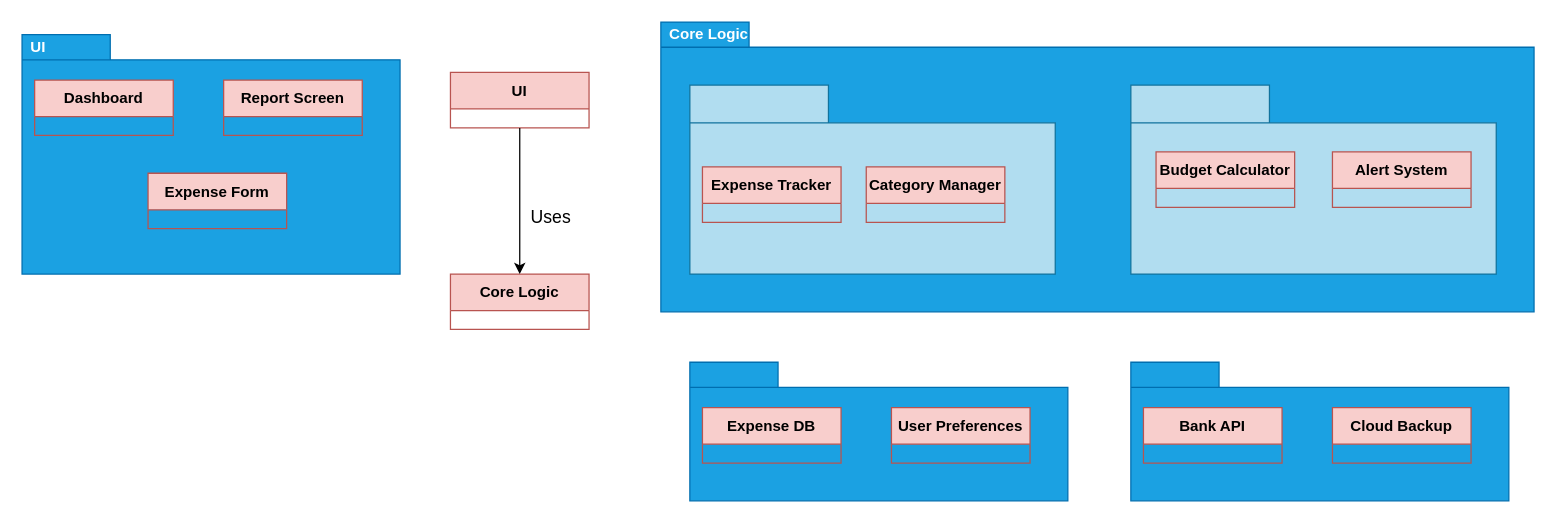
Some shapes in this 1556 by 523 pixel diagram are drawn without their labels. Here are the shapes that lost their labels. From the top down, the box of each, then its label:
(689, 84, 1055, 274): Expense Management
(1130, 84, 1496, 274): Budget Control
(689, 361, 1068, 501): Data
(1130, 361, 1509, 501): External
